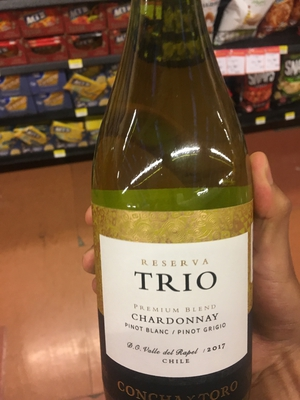trio chardonnay: (89, 15, 261, 397)
